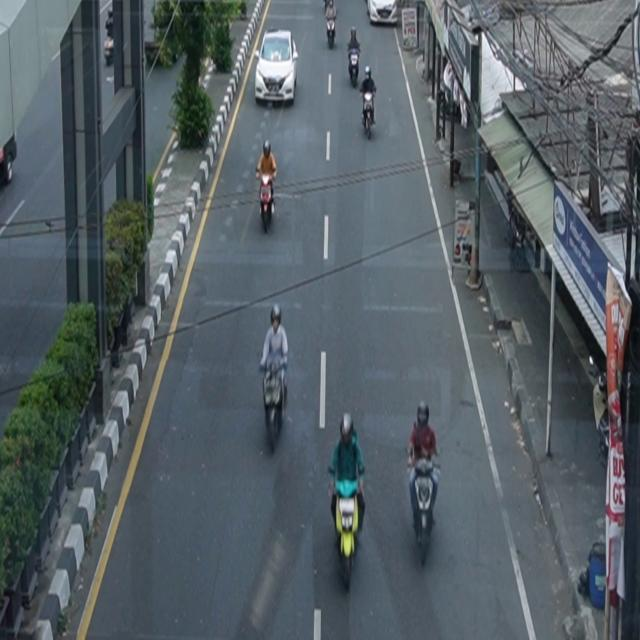car: (255, 30, 299, 107), (367, 1, 398, 26)
